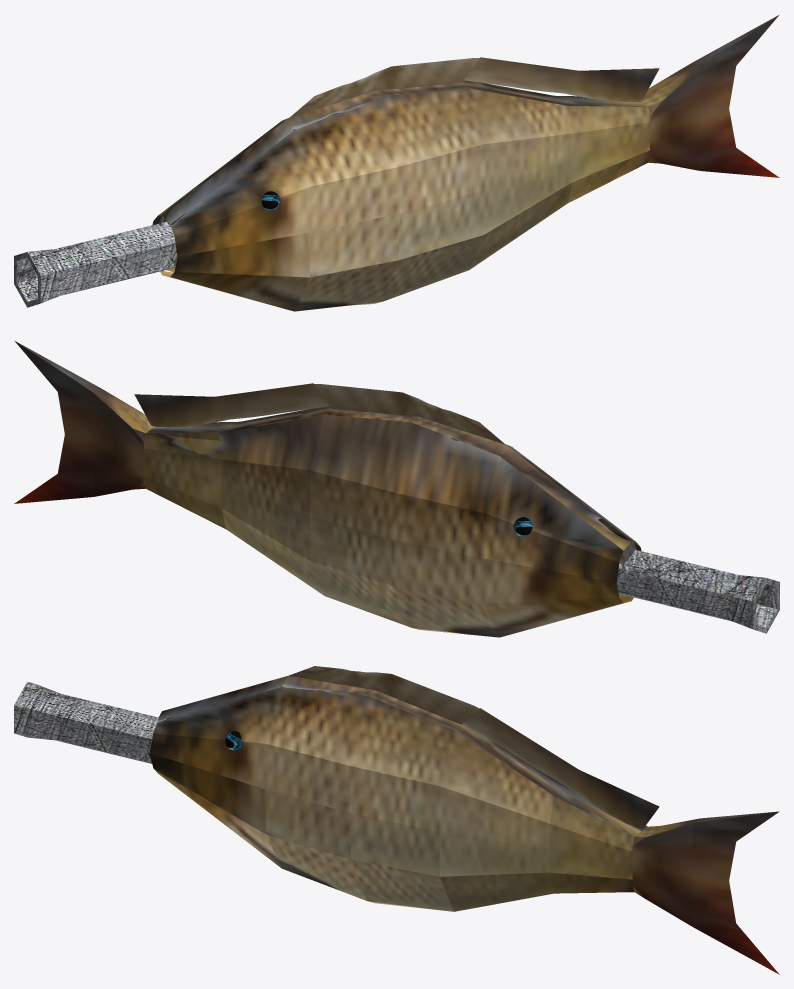
File: fish_gun4.fbx
3 renders of one model, top to bottom at view 1: azimuth 30°, elevation 25°; view 2: azimuth 150°, elevation 25°; view 3: azimuth 330°, elevation 25°, orthographic.
Parts seen in each view (by area): view 1: fish, barrel; view 2: fish, barrel; view 3: fish, barrel.
Boxes of the visible parts, x1,y1,x2,y2 form: fish: (152,15,779,311); barrel: (14,221,177,307); fish: (14,341,641,637); barrel: (616,550,779,633); fish: (149,666,779,974); barrel: (14,681,166,763).
Size of the model in its own units: 868 by 257 by 101.
Materials: 3 (3 with a texture image).
